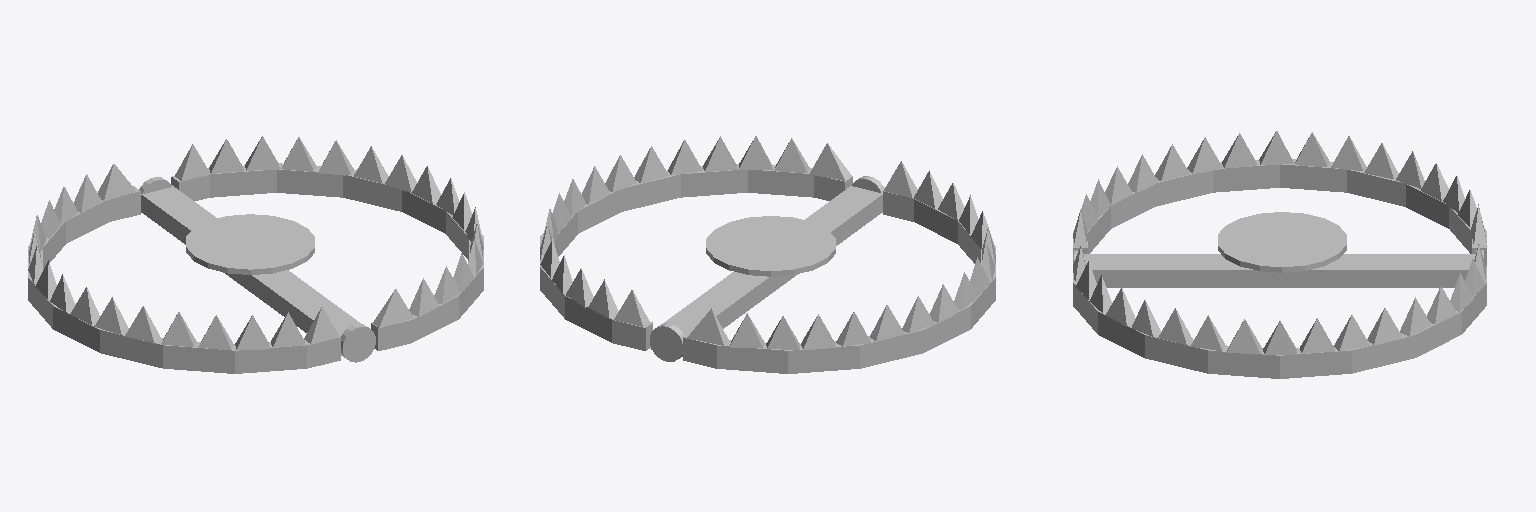
File: trap.obj
The picture shows the model from 3 angles: view 1: azimuth 30°, elevation 25°; view 2: azimuth 150°, elevation 25°; view 3: azimuth 270°, elevation 25°; orthographic projection.
Parts seen in each view (by area): view 1: Cylinder001, Cylinder002, Cylinder005, Box035, Cylinder003, Box032, Box017, Box003, Box006, Box022, Box020, Box002 (+14 smaller); view 2: Cylinder001, Cylinder002, Cylinder005, Box035, Cylinder004, Box032, Box017, Box014, Box016, Box031, Box030, jaw2 (+15 smaller); view 3: Box035, Cylinder002, Cylinder001, Cylinder005, Box027, Box023, Box007, Box024, Box025, Box034, Box008, Box010 (+14 smaller).
Part boxes in pixels (bbox=[...]): Cylinder001: bbox=[28, 186, 340, 373]; Cylinder002: bbox=[171, 163, 483, 350]; Cylinder005: bbox=[186, 214, 314, 274]; Box035: bbox=[141, 185, 360, 355]; Cylinder003: bbox=[341, 324, 375, 362]; Box032: bbox=[373, 289, 413, 328]; Box017: bbox=[98, 164, 135, 200]; Box003: bbox=[235, 315, 269, 349]; Box006: bbox=[125, 306, 160, 343]; Box022: bbox=[318, 140, 353, 175]; Box020: bbox=[245, 136, 279, 170]; Box002: bbox=[271, 312, 305, 347]; Cylinder001: bbox=[683, 191, 995, 373]; Cylinder002: bbox=[540, 164, 852, 350]; Cylinder005: bbox=[706, 216, 835, 276]; Box035: bbox=[651, 186, 882, 356]; Cylinder004: bbox=[650, 323, 683, 361]; Box032: bbox=[810, 143, 851, 180]; Box017: bbox=[686, 308, 728, 345]; Box014: bbox=[801, 314, 836, 349]; Box016: bbox=[730, 313, 764, 348]; Box031: bbox=[703, 136, 737, 171]; Box030: bbox=[774, 138, 809, 172]; jaw2: bbox=[614, 290, 649, 326]; Box035: bbox=[1083, 254, 1475, 287]; Cylinder002: bbox=[1073, 266, 1486, 378]; Cylinder001: bbox=[1073, 159, 1486, 265]; Cylinder005: bbox=[1218, 212, 1346, 272]; Box027: bbox=[1226, 319, 1262, 354]; Box023: bbox=[1367, 308, 1403, 345]; Box007: bbox=[1187, 137, 1222, 173]; Box024: bbox=[1334, 315, 1369, 351]; Box025: bbox=[1300, 318, 1334, 353]; Box034: bbox=[1263, 321, 1297, 354]; Box008: bbox=[1222, 133, 1256, 167]; Box010: bbox=[1295, 132, 1329, 166].
Bounding box in the file's own units: 43.08 × 6.25 × 38.22.